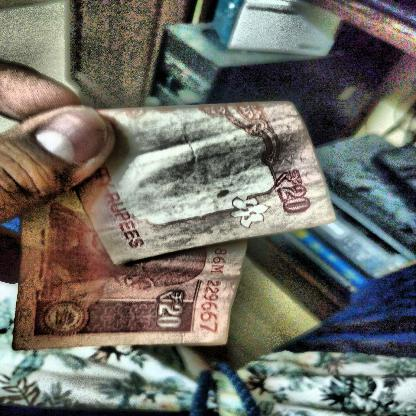Rs20: (266, 165, 320, 218), (150, 286, 194, 334)
